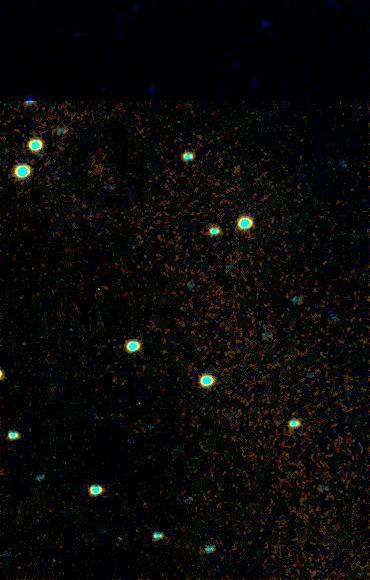star: (0, 359, 18, 389)
